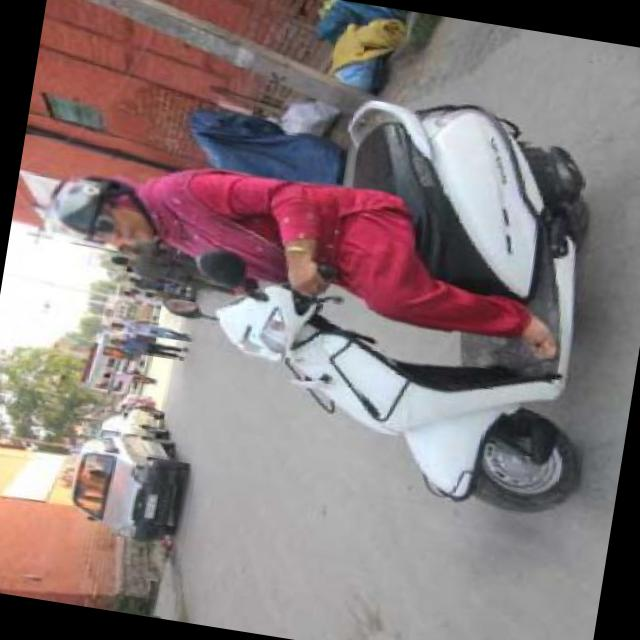With Helmet: (37, 160, 164, 254)
